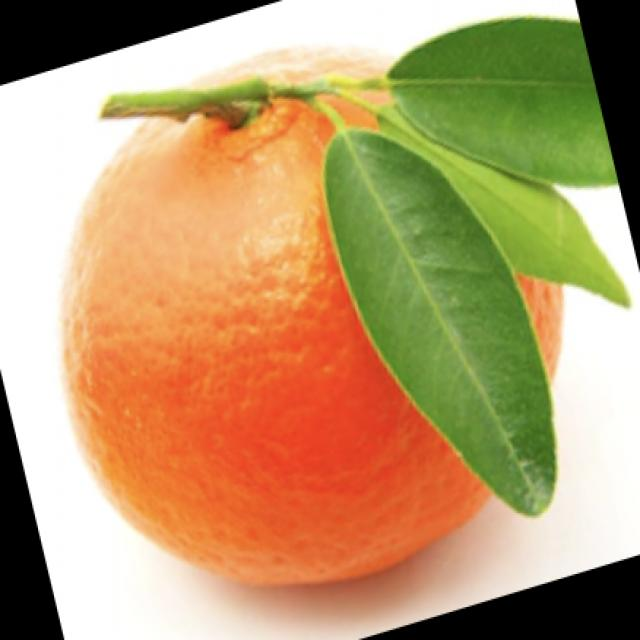fresh: (46, 40, 596, 593)
